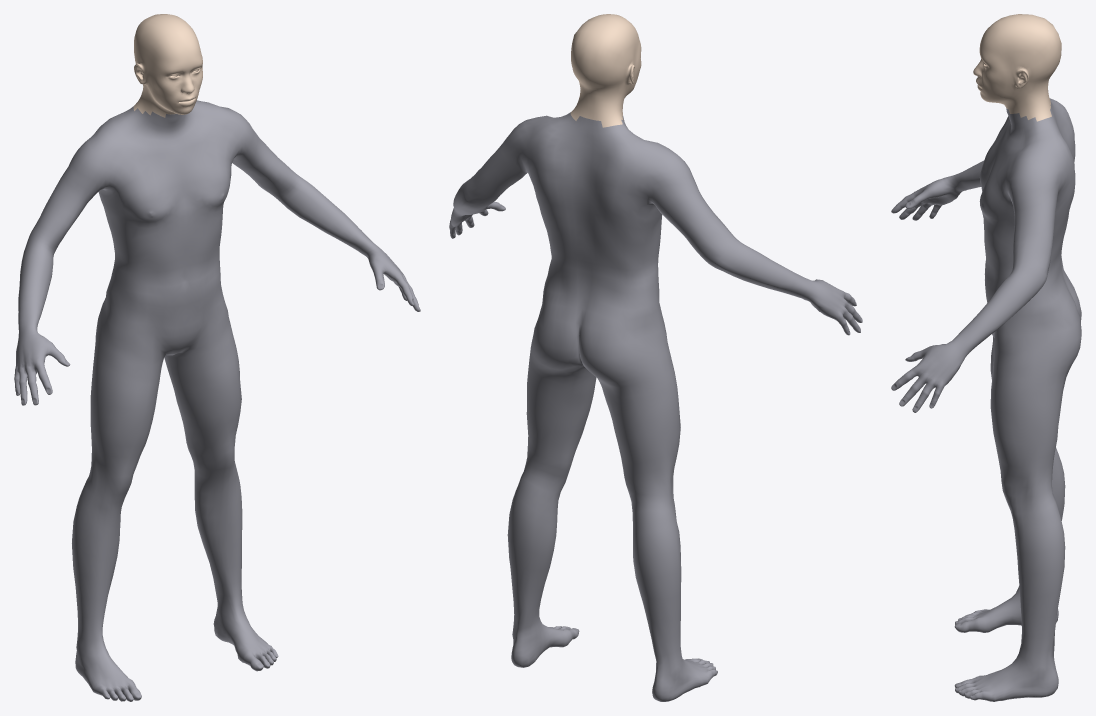
File: npc_m_average.glb
3 renders of one model, left to right at view 1: azimuth 30°, elevation 25°; view 2: azimuth 150°, elevation 25°; view 3: azimuth 270°, elevation 25°, orthographic.
Parts seen in each view (by area): view 1: Human; view 2: Human; view 3: Human.
Part boxes in pixels (box(x1,y1,x2,y2)): Human: box(14, 14, 420, 701); Human: box(449, 14, 862, 701); Human: box(891, 14, 1081, 701).
Bounding box in the file's own units: 1.15 × 1.78 × 0.4776.
